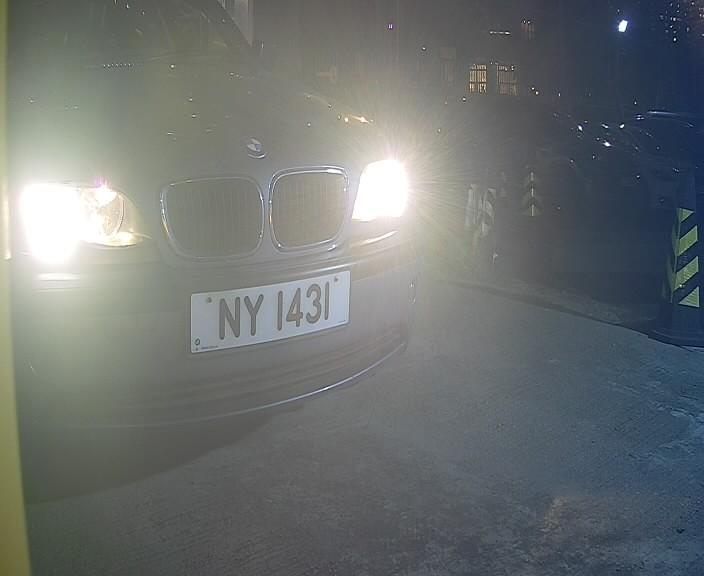Car: (32, 6, 598, 469)
License Plate: (173, 256, 360, 358)
